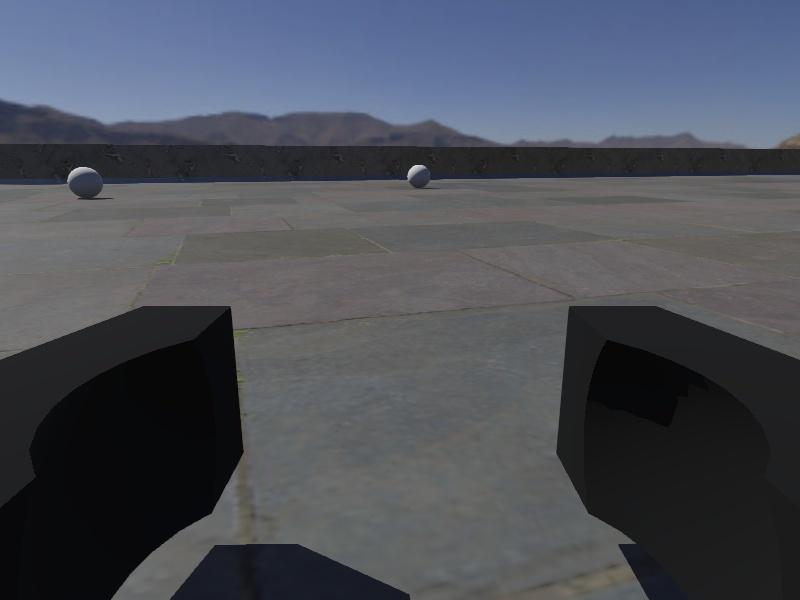white ball: (66, 165, 105, 200), (405, 162, 432, 190)
